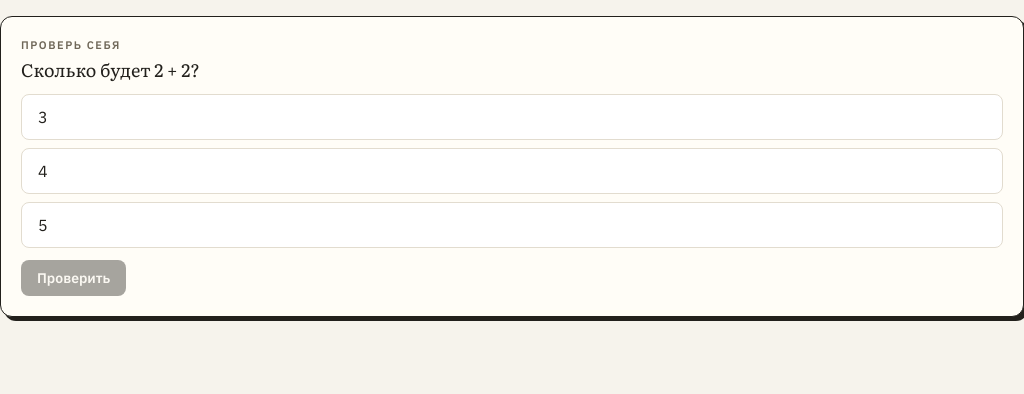
Check with options › gives option-specific feedback and offers the answer only after two tries
The image size is (1024, 394).
Click the radio button labelled "3": (43, 117) x1=21 y1=94 x2=1003 y2=140
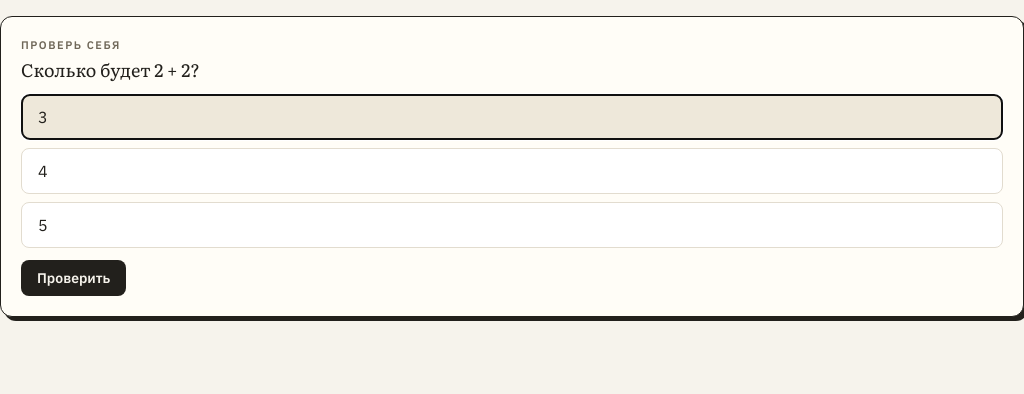
Click the button "Проверить": (74, 278) x1=21 y1=260 x2=126 y2=296
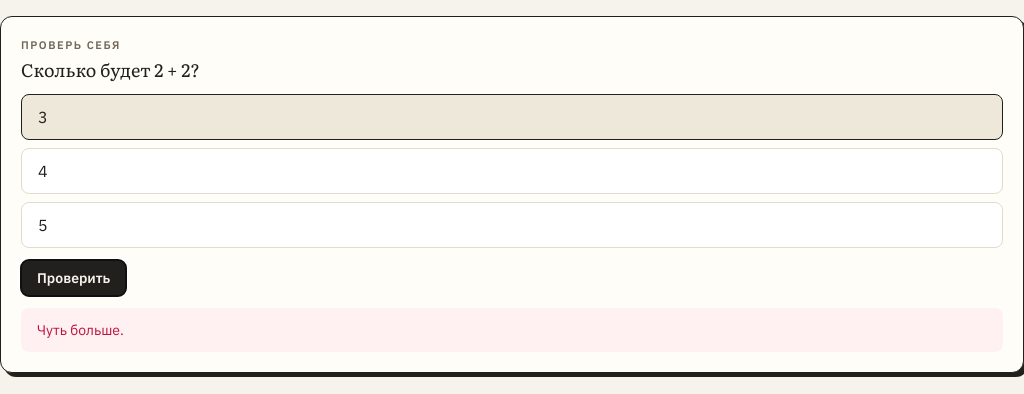
Check: the button "Показать ответ" is not shown
Check: the text "Чуть больше." is shown, box x1=21 y1=308 x2=1003 y2=352
Click the radio button labelled "5": (43, 225) x1=21 y1=202 x2=1003 y2=248
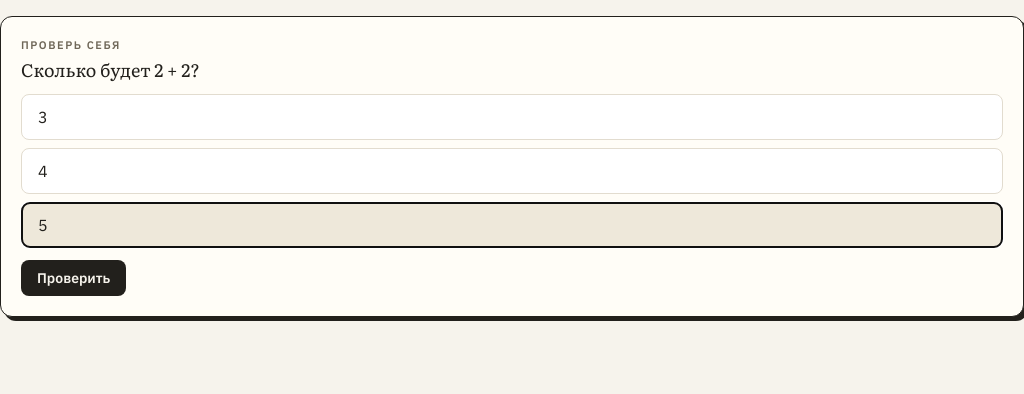
Click the button "Проверить": (74, 278) x1=21 y1=260 x2=126 y2=296
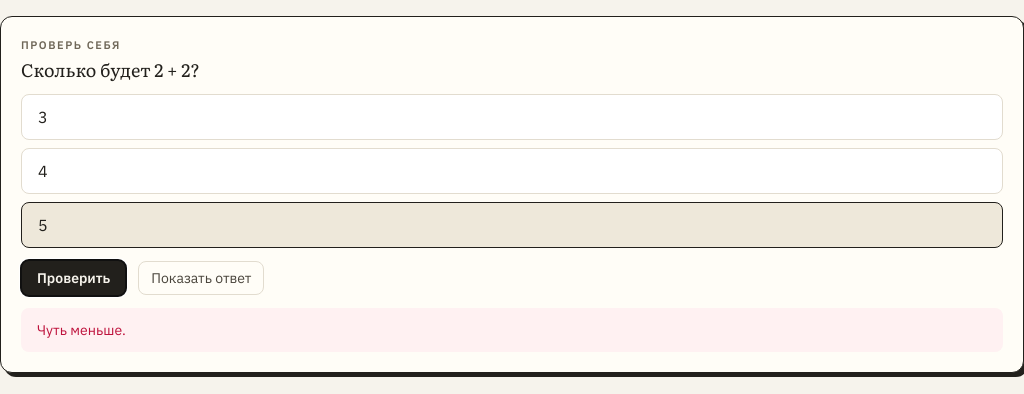
Click the button "Показать ответ": (201, 278) x1=138 y1=261 x2=264 y2=295
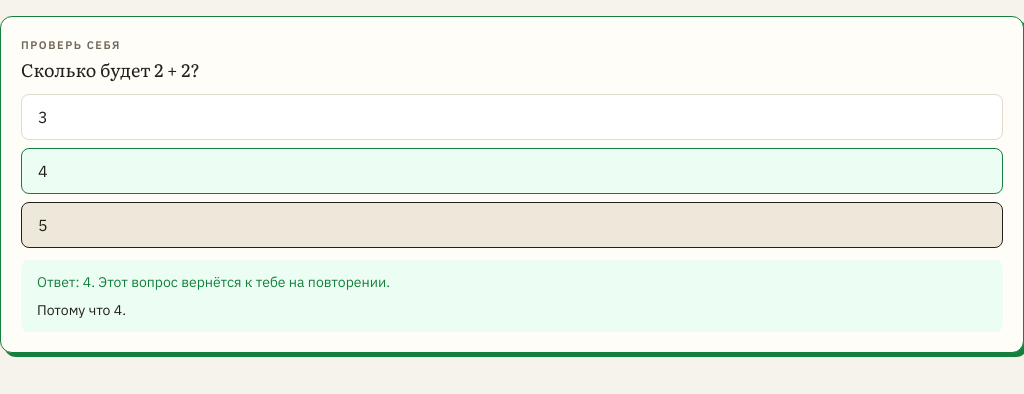
Check: the text "Ответ: 4. Этот вопрос вернётся к тебе на повторении." is shown, box x1=37 y1=273 x2=390 y2=291
